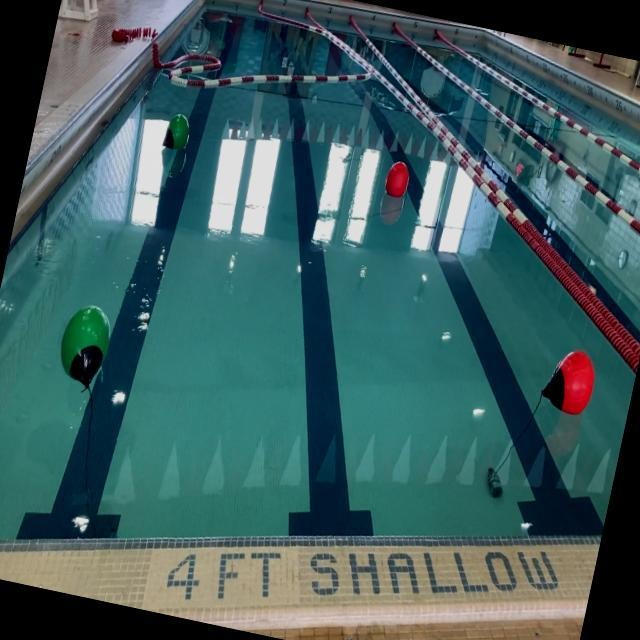buoy: (55, 302, 114, 387), (538, 342, 602, 420), (162, 110, 192, 153), (383, 158, 412, 199)
